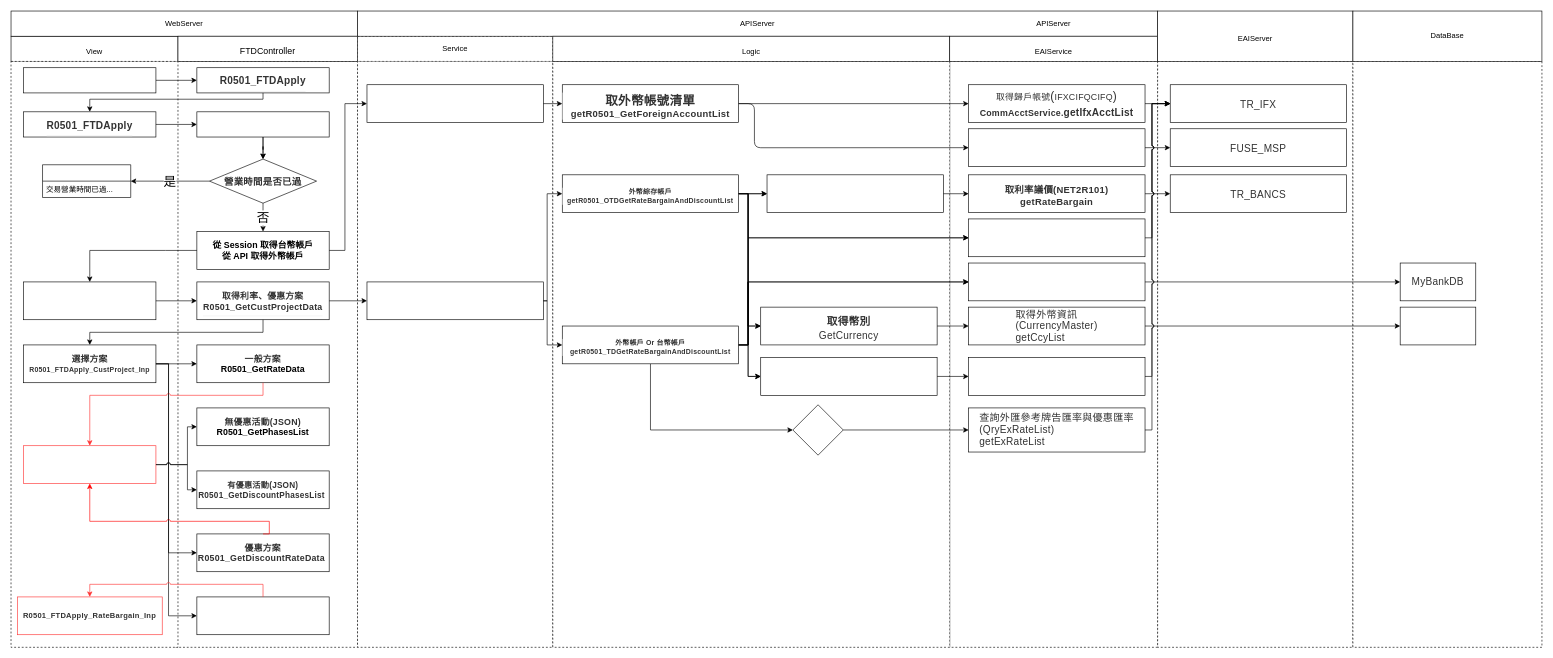
Some shapes in this 1553 by 658 pixel diagram are drawn without their labels. The box of each missing label's shape, as (x1, y1, x2, y2) in pixels:
CommonDB: (1400, 306, 1476, 345)
MSG: (42, 164, 131, 198)
R0501_FTDApply_Inp: (196, 111, 329, 137)
取得利率議價 GetRateBargain: (766, 174, 943, 213)
取得參考起存額 GetBeginDepositAmt: (760, 357, 937, 395)
取得外幣帳號 getR0501_GetForeignAccountList: (366, 84, 543, 123)
取得定存利率 (QryInterestRateList) getQryInterestRateList: (968, 218, 1145, 257)
取得帳戶別名( MSPBXFRALSQRY001 ) CommAcctService.getAcctNickName: (968, 128, 1145, 167)
取得議價、優惠清單、利率表、幣別 getR0501_GetDiscountList: (366, 281, 543, 320)
台幣帳戶: (792, 404, 843, 455)
新升等外幣優惠定存 ( Marketing_Import_List_Detail ) GetAcctProdList: (968, 262, 1145, 301)
查詢外匯定存各幣別起存額 ( IFXNET2R102 ) getEqualAmt: (968, 357, 1145, 395)
議價方案 R0501_GetRateBargainData: (196, 596, 329, 635)
選擇「幣別」 R0501_FTDApply_Rate_Inp: (23, 445, 156, 484)
選擇轉出帳號 R0501_FTDApply_Inp: (23, 281, 156, 320)
點擊外幣定存開戶: (23, 67, 156, 93)
